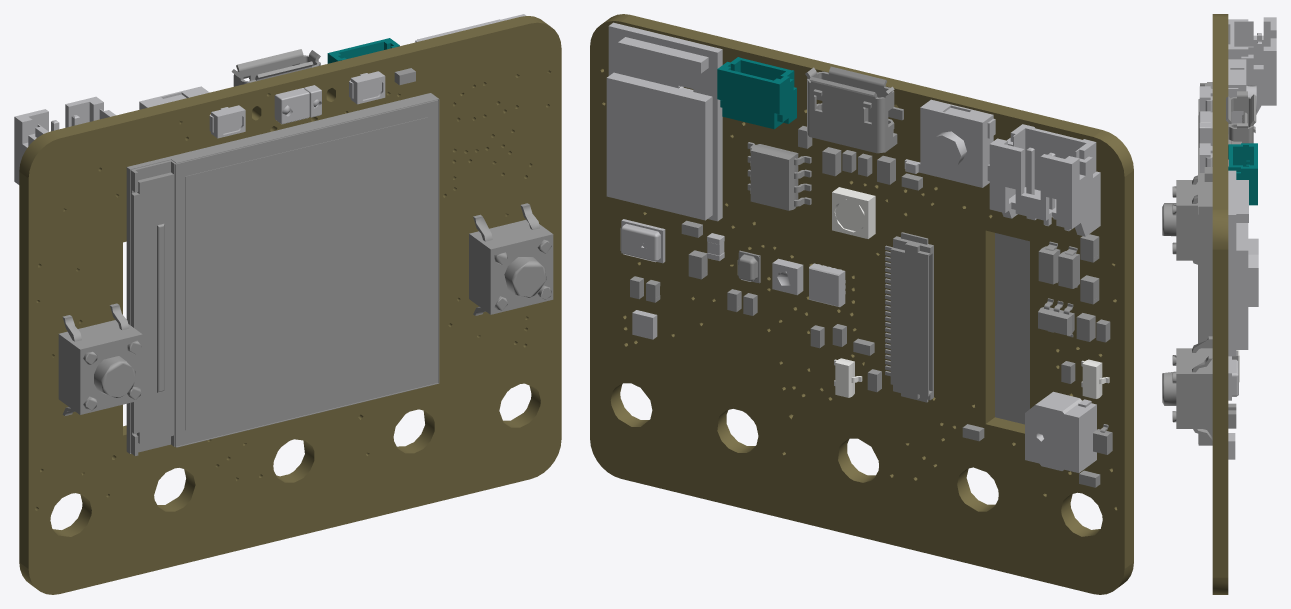
Rendered from ada-4500.glb.
3 renders of one model, left to right at view 1: azimuth 30°, elevation 25°; view 2: azimuth 150°, elevation 25°; view 3: azimuth 270°, elevation 25°, orthographic. The views are drawn at different scales.
Parts seen in each view (by area): view 1: 0.16666666666666666_0.16666666666666666_0.08333333333333333_, 0.3333333333333333_0.3333333333333333_0.3333333333333333_0, 0.5833333333333334_0.5833333333333334_0.5833333333333334_0.8, 0_0.25_0.25_0; view 2: 0.16666666666666666_0.16666666666666666_0.08333333333333333_, 0.5833333333333334_0.5833333333333334_0.5833333333333334_0.8, 0.3333333333333333_0.3333333333333333_0.3333333333333333_0, 0_0.25_0.25_0, 0.9166666666666666_0.9166666666666666_0.9166666666666666_0.8; view 3: 0.3333333333333333_0.3333333333333333_0.3333333333333333_0, 0.5833333333333334_0.5833333333333334_0.5833333333333334_0.8, 0.16666666666666666_0.16666666666666666_0.08333333333333333_, 0_0.25_0.25_0.
Boxes of the visible parts, bbox=[...] form: 0.16666666666666666_0.16666666666666666_0.08333333333333333_: bbox=[19, 16, 561, 594]; 0.3333333333333333_0.3333333333333333_0.3333333333333333_0: bbox=[58, 49, 553, 455]; 0.5833333333333334_0.5833333333333334_0.5833333333333334_0.8: bbox=[14, 14, 526, 184]; 0_0.25_0.25_0: bbox=[327, 38, 399, 63]; 0.16666666666666666_0.16666666666666666_0.08333333333333333_: bbox=[590, 14, 1133, 594]; 0.5833333333333334_0.5833333333333334_0.5833333333333334_0.8: bbox=[606, 22, 1100, 472]; 0.3333333333333333_0.3333333333333333_0.3333333333333333_0: bbox=[630, 66, 1112, 487]; 0_0.25_0.25_0: bbox=[717, 57, 796, 129]; 0.9166666666666666_0.9166666666666666_0.9166666666666666_0.8: bbox=[832, 187, 1109, 398]; 0.3333333333333333_0.3333333333333333_0.3333333333333333_0: bbox=[1162, 82, 1256, 445]; 0.5833333333333334_0.5833333333333334_0.5833333333333334_0.8: bbox=[1199, 17, 1276, 459]; 0.16666666666666666_0.16666666666666666_0.08333333333333333_: bbox=[1212, 14, 1228, 594]; 0_0.25_0.25_0: bbox=[1228, 143, 1257, 205].
Size of the model in its own units: 5.14 by 4.26 by 1.14.
